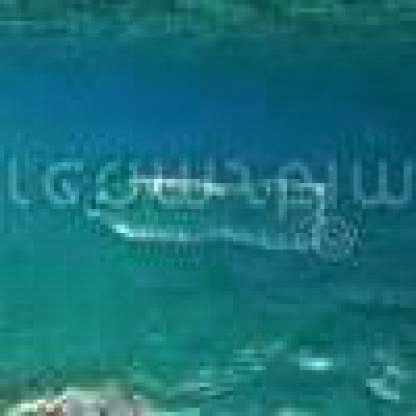pbottle: (71, 166, 370, 270)
